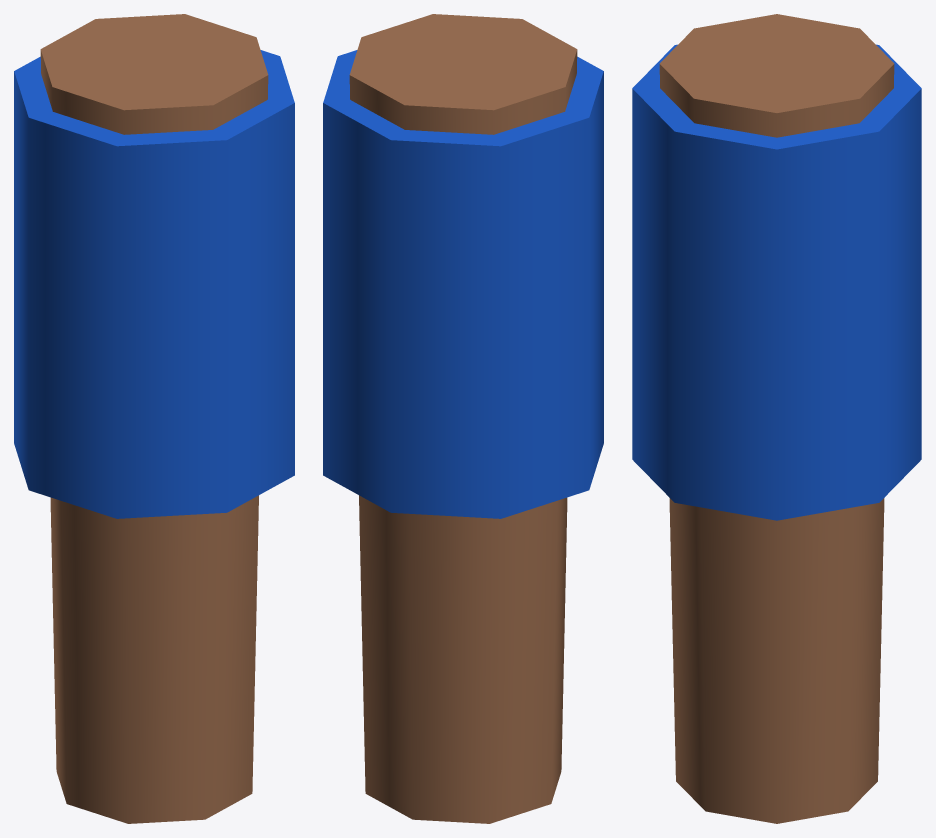
The model's file is Brazo.obj.
3 views of the same model, side by side, from view 1: azimuth 30°, elevation 25°; view 2: azimuth 150°, elevation 25°; view 3: azimuth 270°, elevation 25° (orthographic).
Parts seen in each view (by area): view 1: Brazo; view 2: Brazo; view 3: Brazo.
Part boxes in pixels (left/top/right/bottom): Brazo: left=14, top=14, right=294, bottom=823; Brazo: left=323, top=14, right=603, bottom=823; Brazo: left=632, top=14, right=921, bottom=823.
Size of the model in its own units: 0.106 by 0.29 by 0.106.
1 material, 1 textured.
